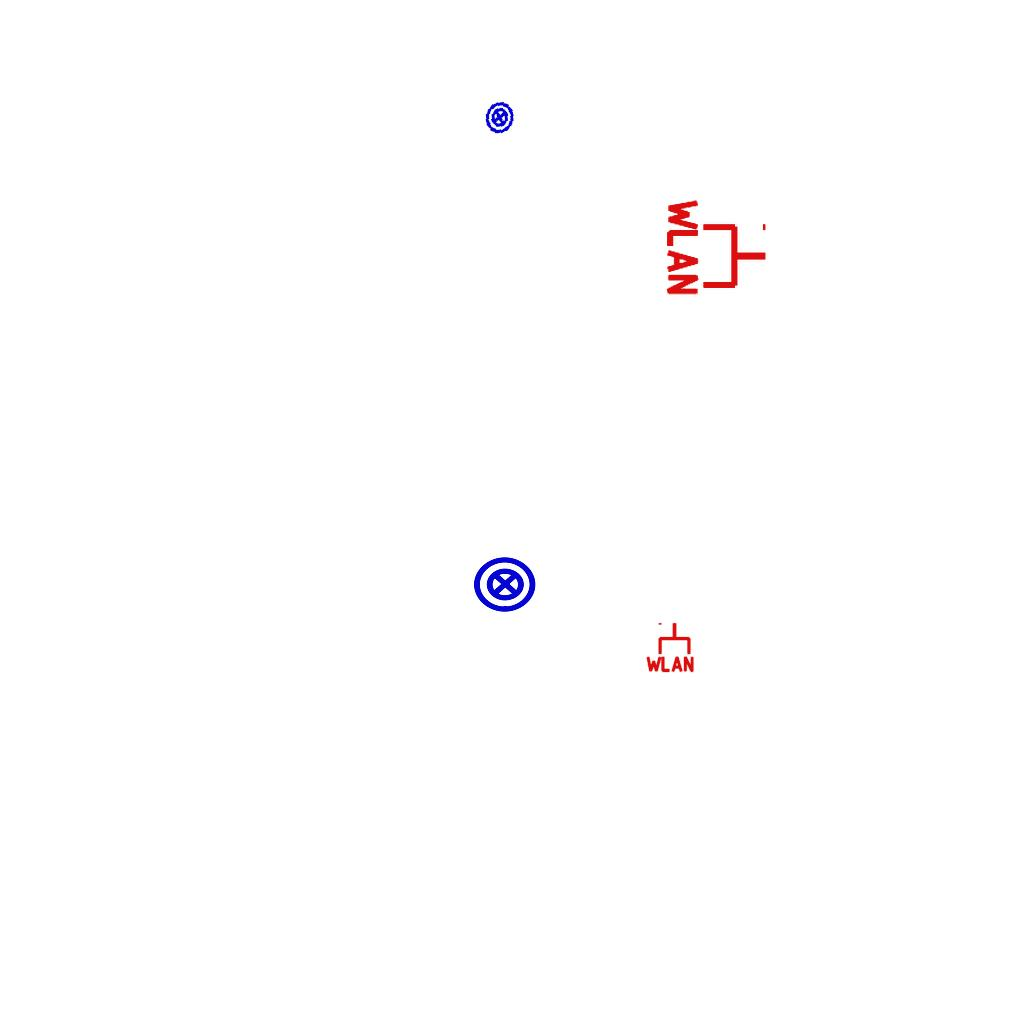Taster_beleuchtet: (472, 551, 538, 617), (480, 98, 519, 137)
WLAN: (665, 195, 770, 299), (644, 621, 696, 673)
